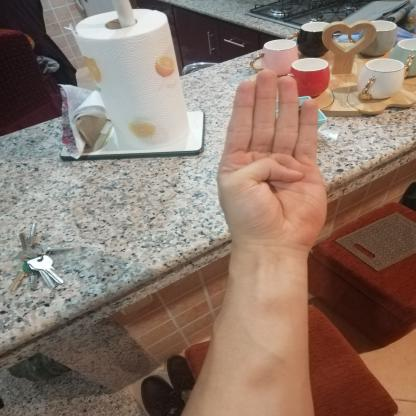KAAF: (202, 58, 351, 265)
